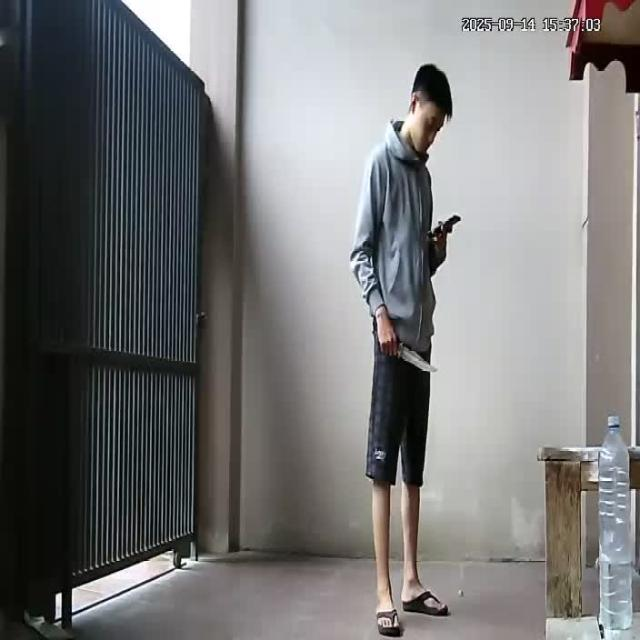senjata_tajam: (397, 342, 440, 377)
